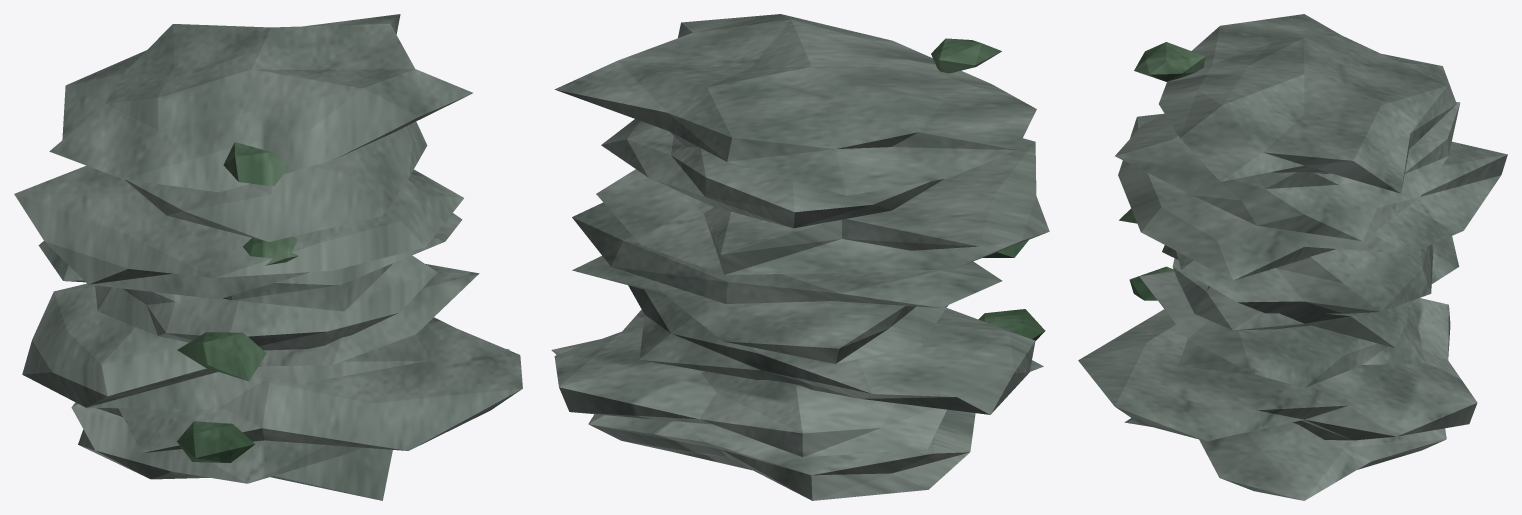
Rendered from 0035_layered_rock_10.glb.
3 views of the same model, side by side, from view 1: azimuth 30°, elevation 25°; view 2: azimuth 150°, elevation 25°; view 3: azimuth 270°, elevation 25° (orthographic). The views are drawn at different scales.
Visible parts, largest first — view 1: stone, moss; view 2: stone, moss; view 3: stone, moss.
Boxes of the visible parts, bbox=[...] form: stone: bbox=[14, 14, 522, 500]; moss: bbox=[177, 142, 298, 462]; stone: bbox=[551, 14, 1049, 500]; moss: bbox=[931, 38, 1045, 340]; stone: bbox=[1078, 14, 1507, 500]; moss: bbox=[1119, 42, 1205, 300].
Size of the model in its own units: 2.23 by 1.72 by 1.96.
Materials: 2 (2 with a texture image).
